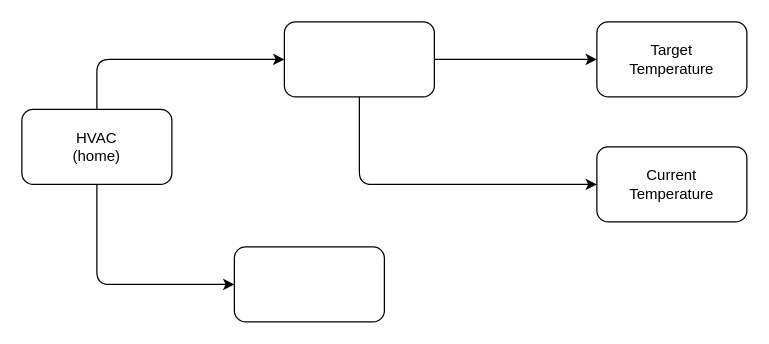
Some shapes in this 769 by 344 pixel diagram are drawn without their labels. The shapes that lost their labels are listed below. From the top down, each one's centre as x and y in pixels, then its label:
At pixel 358 59: "Temperature Info".
At pixel 308 284: "Power State".
